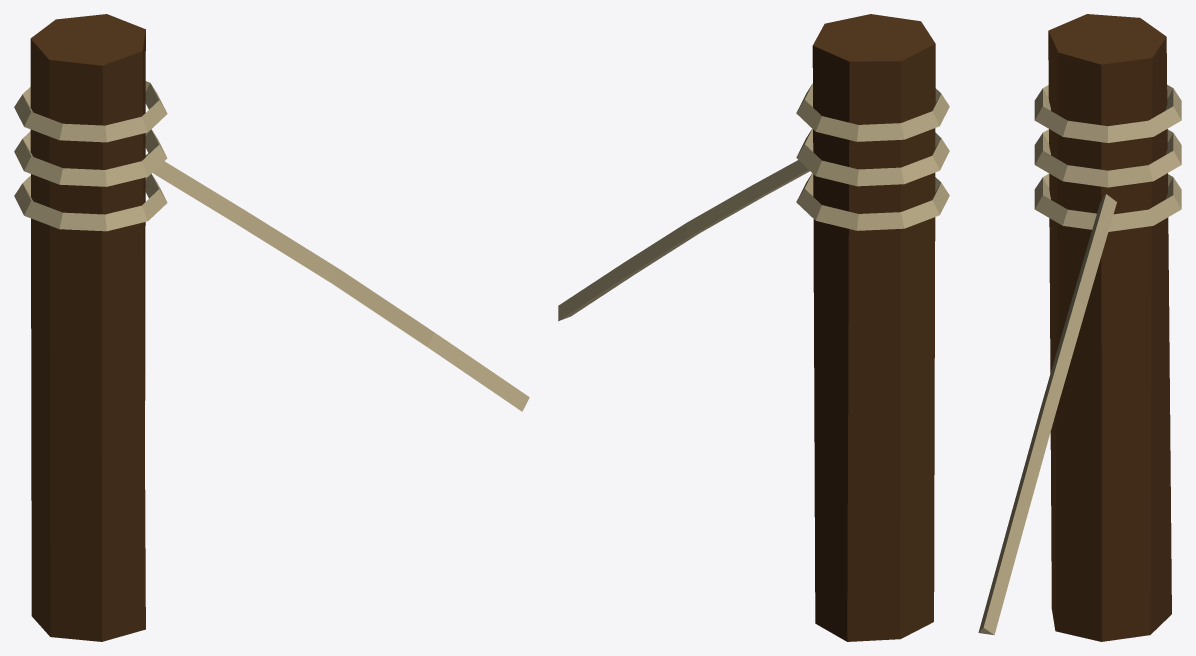
The model's file is mooringpost.glb.
3 renders of one model, left to right at view 1: azimuth 30°, elevation 25°; view 2: azimuth 150°, elevation 25°; view 3: azimuth 270°, elevation 25°, orthographic.
Parts seen in each view (by area): view 1: base; view 2: base; view 3: base.
Part boxes in pixels (x1,y1,x2,y2): base: (14,14,529,641); base: (558,14,949,641); base: (978,14,1181,641).
Size of the model in its own units: 0.4178 by 0.52 by 0.1656.
